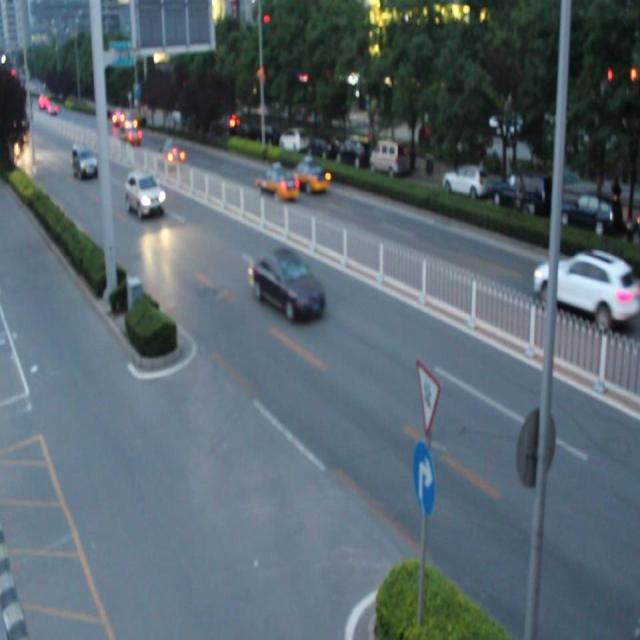car: (533, 248, 630, 324), (249, 245, 323, 320), (125, 170, 164, 218), (255, 166, 298, 203), (289, 157, 329, 196), (157, 142, 185, 171)
